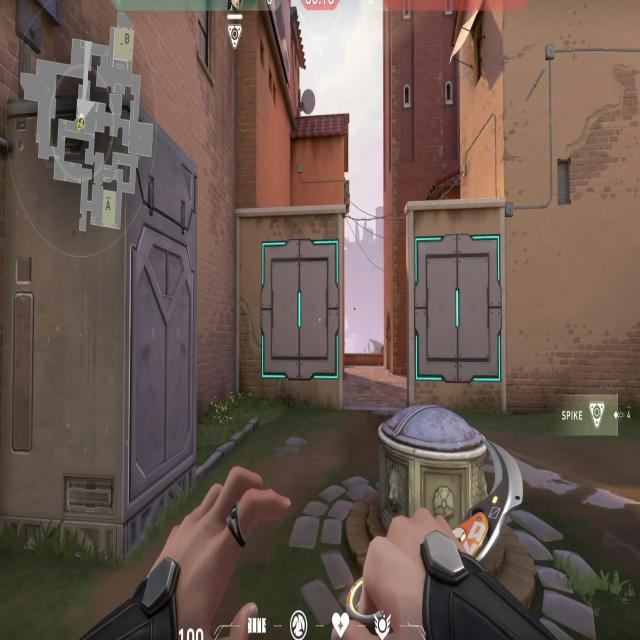Mid_Wall: (235, 196, 357, 417), (404, 194, 512, 430)
